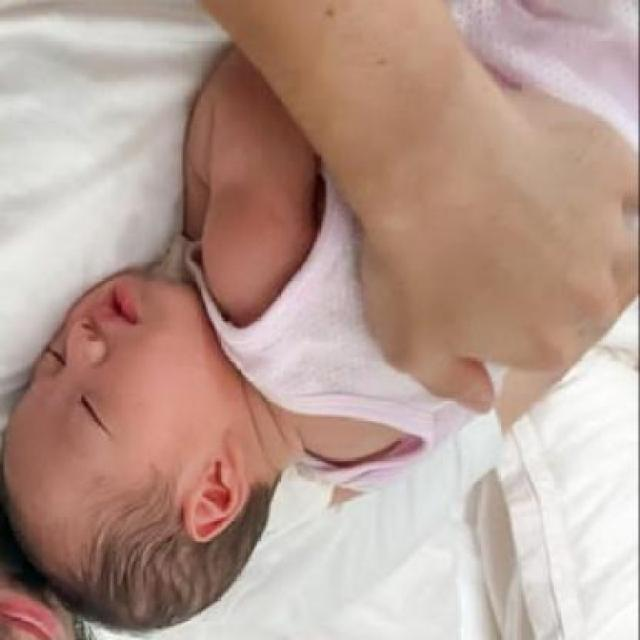baby: (4, 77, 422, 636)
